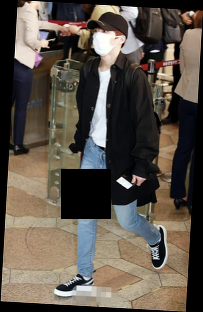with_mask: (91, 29, 115, 58)
